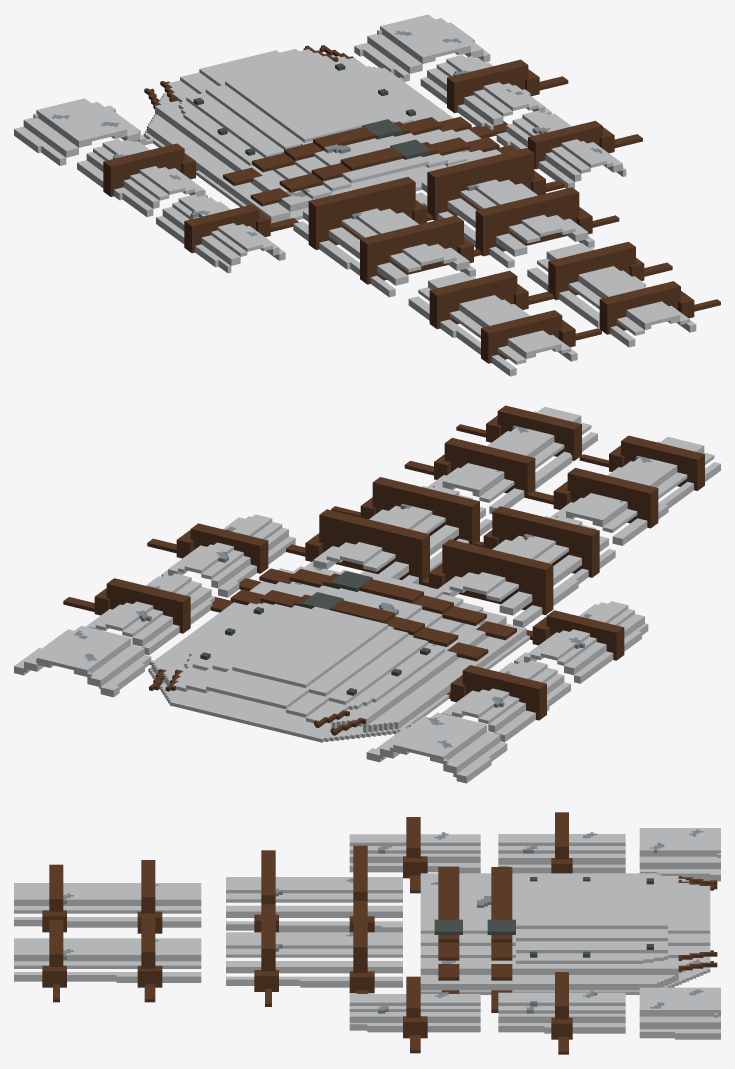
The model's file is armor_metal_sheets_heavy.glb.
3 views of the same model, one above another, from view 1: azimuth 30°, elevation 25°; view 2: azimuth 150°, elevation 25°; view 3: azimuth 270°, elevation 25° (orthographic). The views are drawn at different scales.
Visible parts, largest first — view 1: armor_metal_sheets_heavy:compound; view 2: armor_metal_sheets_heavy:compound; view 3: armor_metal_sheets_heavy:compound.
Part boxes in pixels (x1,y1,x2,y2): armor_metal_sheets_heavy:compound: (14,14,720,376); armor_metal_sheets_heavy:compound: (14,405,720,783); armor_metal_sheets_heavy:compound: (14,812,720,1054).
Bounding box in the file's own units: 0.876 × 0.078 × 1.2.
